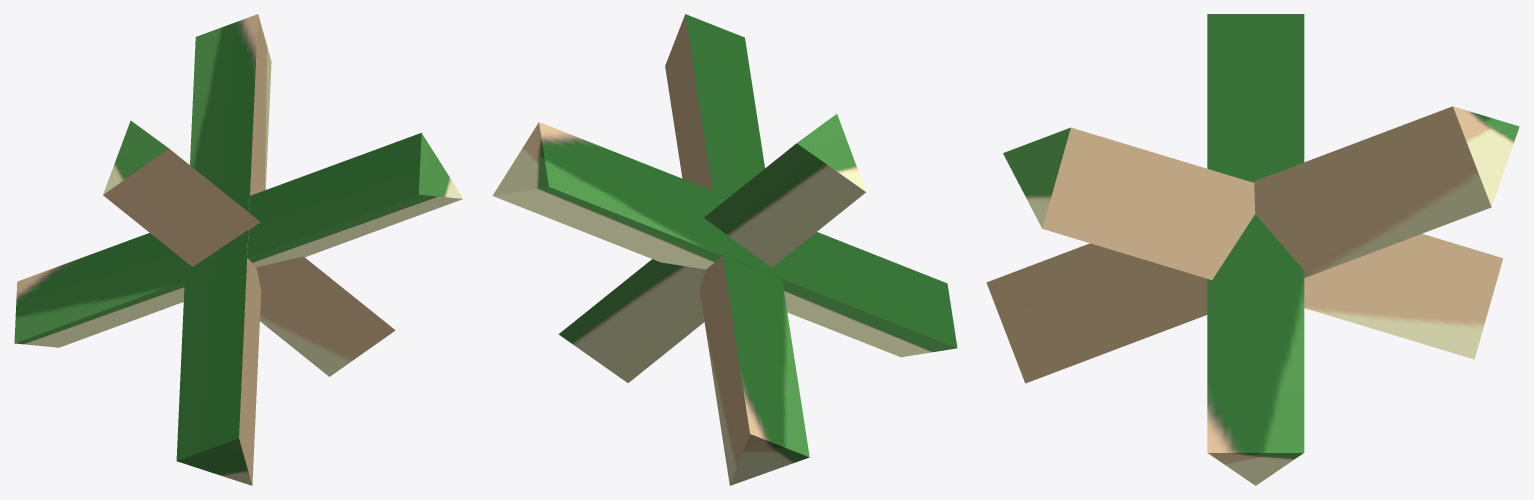
Rendered from hedgehog.fbx.
3 renders of one model, left to right at view 1: azimuth 30°, elevation 25°; view 2: azimuth 150°, elevation 25°; view 3: azimuth 270°, elevation 25°, orthographic. The views are drawn at different scales.
Parts seen in each view (by area): view 1: Cube.001; view 2: Cube.001; view 3: Cube.001.
Part boxes in pixels (x1,y1,x2,y2): Cube.001: (14, 14, 463, 485); Cube.001: (492, 14, 957, 485); Cube.001: (986, 14, 1519, 485).
Bounding box in the file's own units: 365 × 363 × 455.
